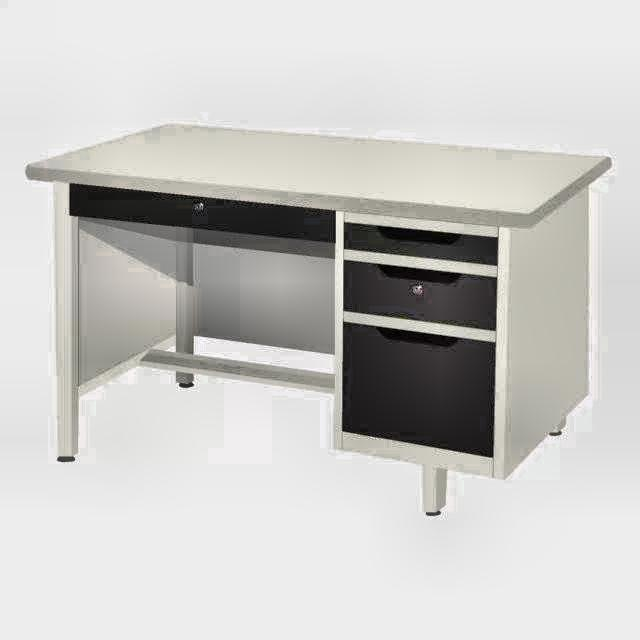mesa: (14, 106, 623, 553)
